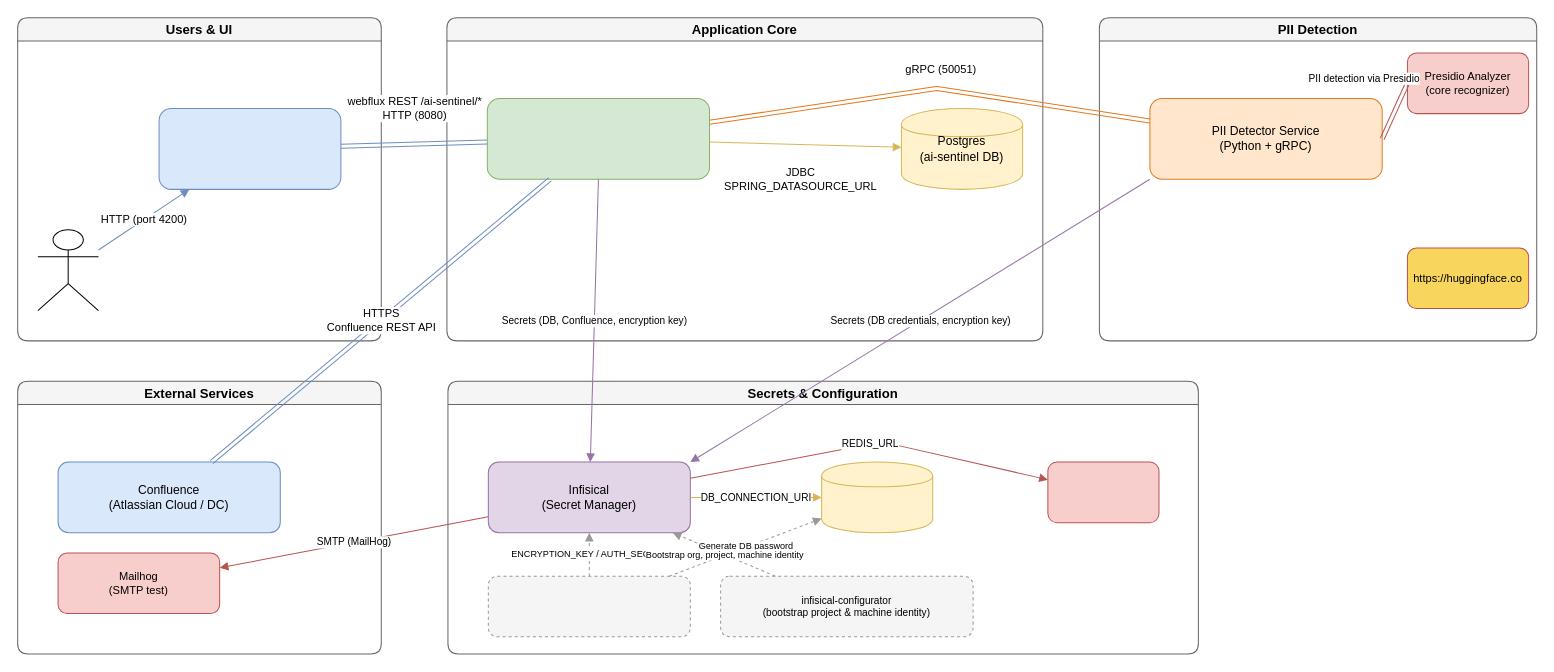
This 1554x672 diagram has some shape labels left out. The shapes that lost their labels are listed below. From the top down, each one's centre as x and y in pixels, then its label:
the point at 249,148: PII Reporting UI (Angular 20 + Nginx)
the point at 598,138: PII Reporting API (Java 25 - Spring Boot 4 + Armeria)
the point at 67,270: End User
the point at 877,497: Infisical DB (Postgres)
the point at 1103,492: Infisical Redis
the point at 588,606: secrets-bootstrap (generate internal keys)
